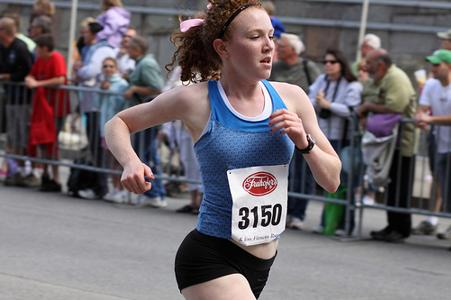person: (100, 2, 343, 300)
